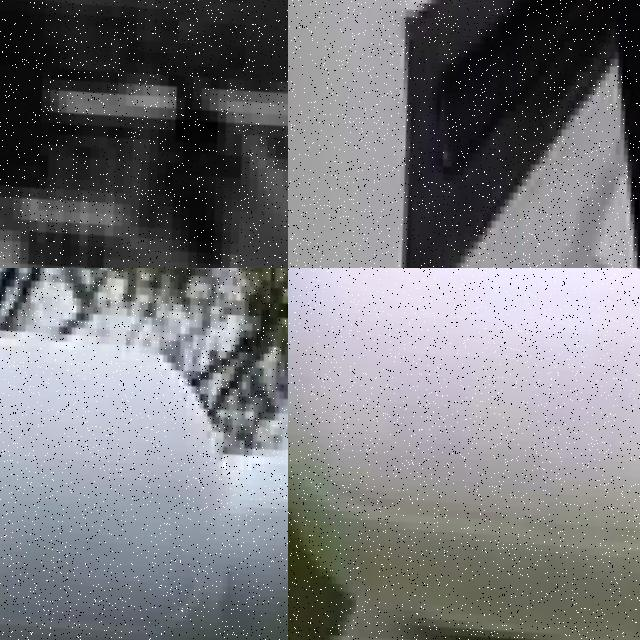0: (0, 0, 288, 268)
drone: (288, 268, 640, 640), (0, 268, 288, 640), (288, 0, 640, 268)
